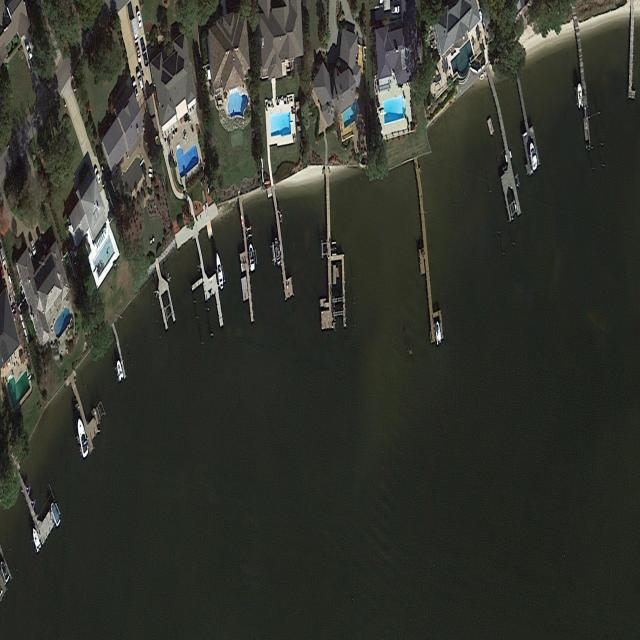large-vehicle: (130, 15, 140, 44)
ship: (75, 415, 90, 460), (215, 250, 225, 292), (49, 498, 62, 529), (528, 141, 539, 172), (31, 524, 42, 555), (273, 235, 282, 267), (0, 557, 10, 585), (248, 242, 256, 274), (115, 359, 124, 383), (577, 82, 584, 110), (435, 320, 442, 346), (204, 204, 209, 218), (479, 72, 485, 81)
small-vehicle: (141, 44, 149, 69), (136, 68, 144, 91), (25, 41, 33, 62), (132, 78, 139, 100), (135, 43, 142, 64), (0, 247, 7, 267), (30, 238, 37, 257), (94, 166, 101, 185), (36, 225, 42, 244), (136, 10, 142, 29), (390, 5, 400, 14), (71, 79, 76, 95)
